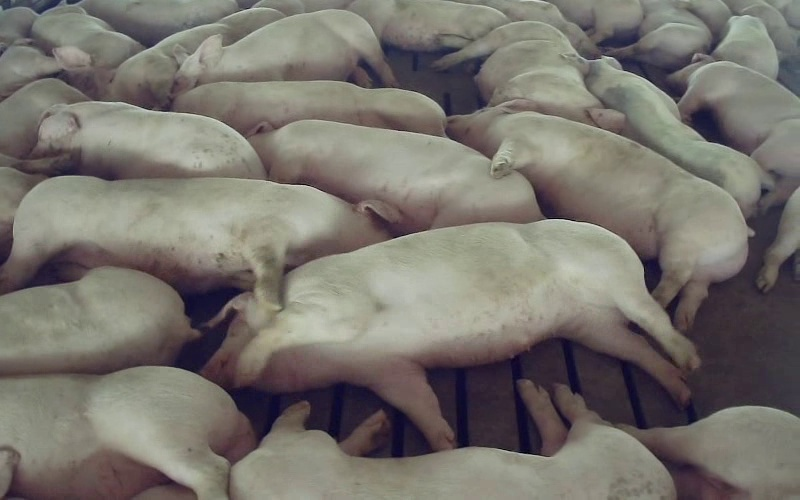pig: (447, 100, 752, 329), (0, 176, 399, 320), (230, 380, 675, 499), (562, 53, 773, 217), (0, 366, 255, 499), (0, 267, 199, 375), (433, 21, 623, 132), (667, 55, 799, 208), (93, 8, 284, 109), (171, 10, 395, 93), (31, 102, 265, 178), (172, 81, 444, 135), (348, 0, 509, 51), (78, 0, 238, 46), (607, 0, 712, 70), (712, 15, 778, 78)
